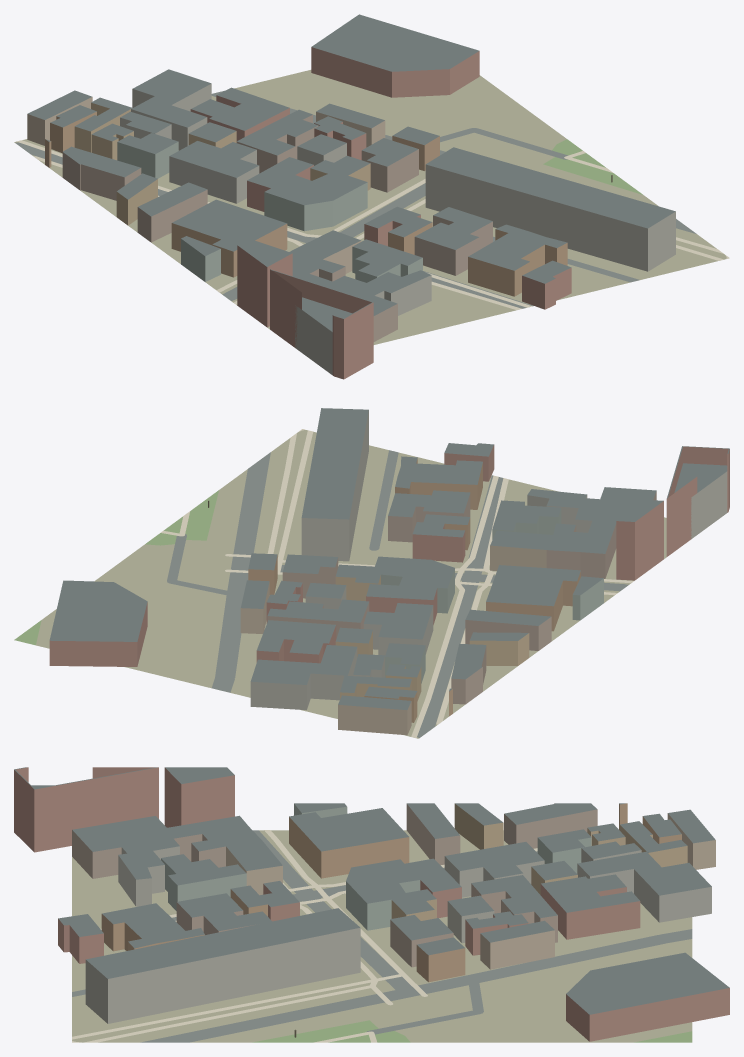
File: sector--4_-3.glb
3 views of the same model, one above another, from view 1: azimuth 30°, elevation 25°; view 2: azimuth 150°, elevation 25°; view 3: azimuth 270°, elevation 25° (orthographic). The views are drawn at different scales.
Visible parts, largest first — view 1: -4:-3-facade, -4:-3-roof, -4:-3-ground, -4:-3-road, -4:-3-paving, -4:-3-park; view 2: -4:-3-roof, -4:-3-facade, -4:-3-ground, -4:-3-road, -4:-3-paving, -4:-3-park; view 3: -4:-3-facade, -4:-3-roof, -4:-3-ground, -4:-3-road, -4:-3-paving, -4:-3-park.
Boxes of the visible parts, bbox=[...] form: -4:-3-facade: bbox=[27, 47, 675, 379]; -4:-3-roof: bbox=[27, 14, 675, 331]; -4:-3-ground: bbox=[14, 70, 726, 344]; -4:-3-road: bbox=[15, 90, 696, 308]; -4:-3-paving: bbox=[16, 140, 729, 309]; -4:-3-park: bbox=[543, 139, 642, 194]; -4:-3-roof: bbox=[49, 408, 729, 709]; -4:-3-facade: bbox=[49, 410, 729, 735]; -4:-3-ground: bbox=[36, 430, 666, 738]; -4:-3-road: bbox=[167, 450, 628, 737]; -4:-3-paving: bbox=[160, 429, 633, 737]; -4:-3-park: bbox=[14, 490, 218, 645]; -4:-3-facade: bbox=[14, 767, 729, 1041]; -4:-3-roof: bbox=[14, 767, 729, 1014]; -4:-3-ground: bbox=[72, 830, 692, 1042]; -4:-3-road: bbox=[72, 830, 692, 1042]; -4:-3-paving: bbox=[72, 830, 537, 1042]; -4:-3-park: bbox=[252, 1020, 692, 1042].
Bounding box in the file's own units: 162 × 22.4 × 231.
